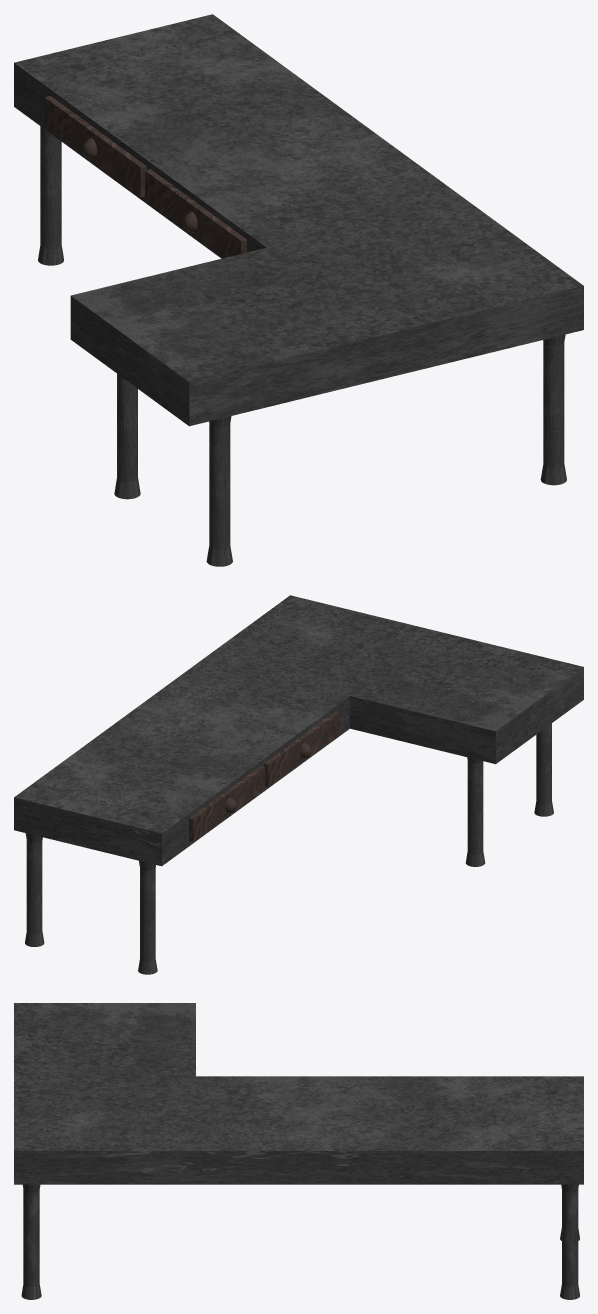
The model's file is table.glb.
The picture shows the model from 3 angles, top to bottom: view 1: azimuth 30°, elevation 25°; view 2: azimuth 150°, elevation 25°; view 3: azimuth 270°, elevation 25°; orthographic projection. The views are drawn at different scales.
Visible parts, largest first — view 1: Tabletop, Legs, Drawer.001, Drawer; view 2: Tabletop, Legs, Drawer.001, Drawer; view 3: Tabletop, Legs.
Part boxes in pixels (x1,y1,x2,y2): Tabletop: (14, 14, 583, 426); Legs: (38, 126, 566, 566); Drawer.001: (44, 95, 146, 197); Drawer: (145, 169, 246, 258); Tabletop: (14, 595, 583, 866); Legs: (25, 723, 553, 974); Drawer.001: (189, 766, 264, 841); Drawer: (263, 711, 339, 786); Tabletop: (14, 1003, 583, 1184); Legs: (21, 1184, 579, 1299).
Bounding box in the file's own units: 3.97 × 1.9 × 6.47.
Materials: 2 (2 with a texture image).
